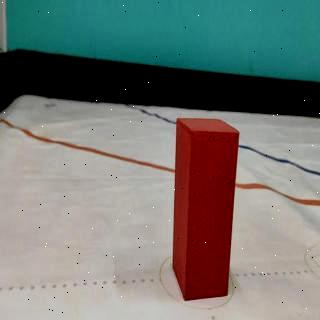redbox: (171, 116, 239, 302)
